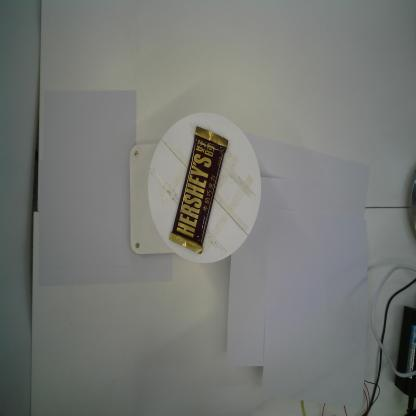Chocolate: (168, 125, 229, 255)
